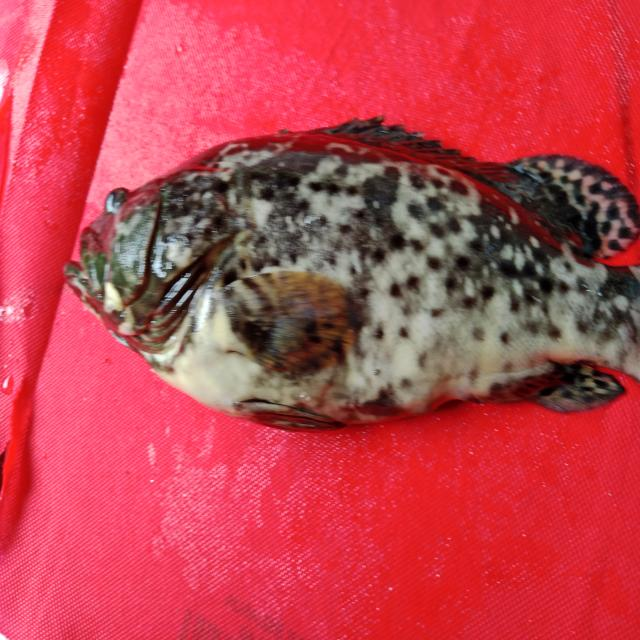ikan: (56, 108, 626, 455)
